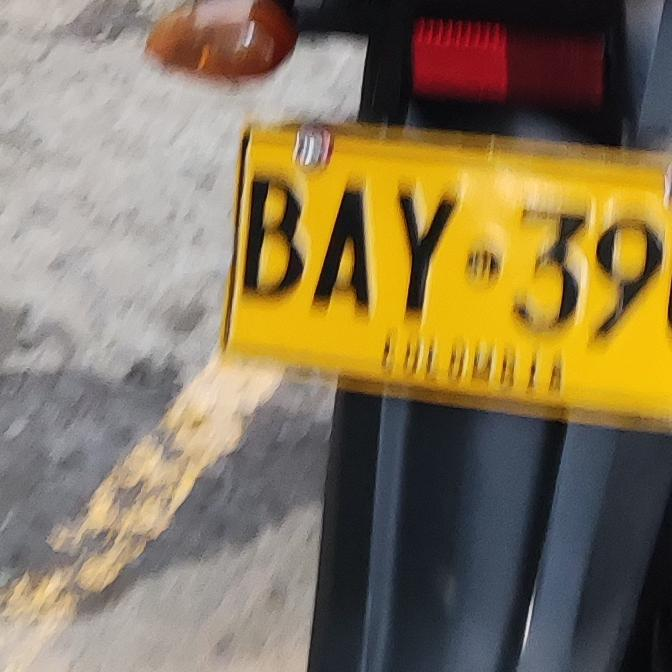plates: (213, 115, 672, 422)
